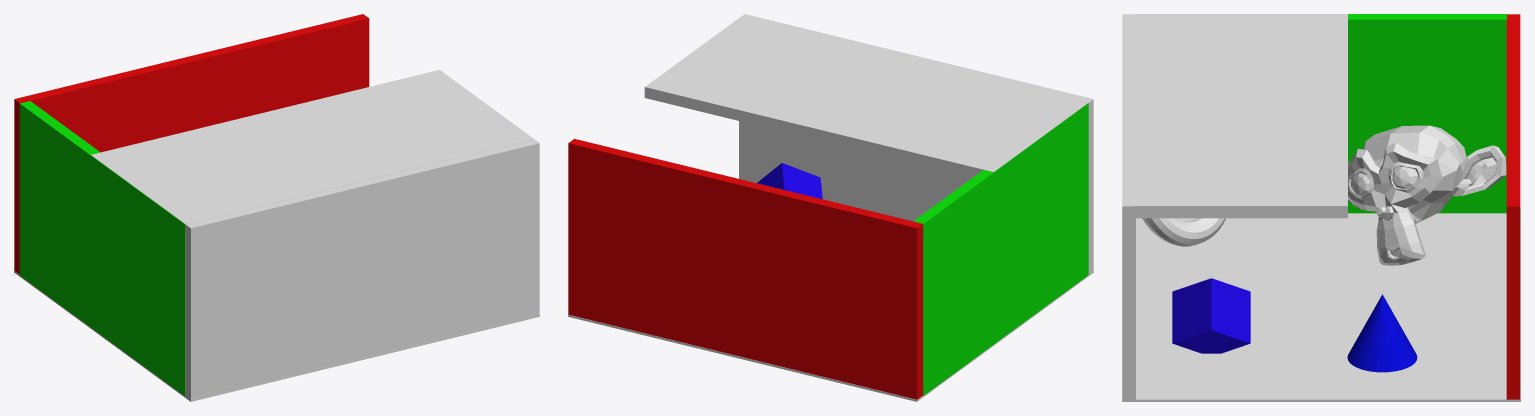
3 renders of one model, left to right at view 1: azimuth 30°, elevation 25°; view 2: azimuth 150°, elevation 25°; view 3: azimuth 270°, elevation 25°, orthographic. The views are drawn at different scales.
Visible parts, largest first — view 1: Cube.001, Cube.004, Cube.003, Cube.002, Cube; view 2: Cube.002, Cube.004, Cube.003, Cube.001, Cube, Cube.005; view 3: Cube, Cube.004, Cube.003, Suzanne, Cube.002, Cube.005, Cube.001, Cone, Torus.
Part boxes in pixels (bbox=[...]): Cube.001: bbox=[185, 139, 539, 399]; Cube.004: bbox=[91, 70, 534, 224]; Cube.003: bbox=[19, 101, 185, 395]; Cube.002: bbox=[14, 14, 369, 274]; Cube: bbox=[14, 270, 539, 401]; Cube.002: bbox=[568, 139, 922, 399]; Cube.004: bbox=[644, 17, 1088, 177]; Cube.003: bbox=[913, 103, 1088, 395]; Cube.001: bbox=[739, 14, 1093, 273]; Cube: bbox=[568, 270, 1093, 401]; Cube.005: bbox=[757, 163, 822, 199]; Cube: bbox=[1122, 207, 1520, 401]; Cube.004: bbox=[1134, 14, 1347, 218]; Cube.003: bbox=[1348, 14, 1507, 213]; Suzanne: bbox=[1348, 125, 1506, 265]; Cube.002: bbox=[1506, 14, 1520, 399]; Cube.005: bbox=[1172, 278, 1250, 353]; Cube.001: bbox=[1122, 14, 1135, 399]; Cone: bbox=[1347, 294, 1417, 372]; Torus: bbox=[1142, 218, 1225, 246].
Size of the model in its own units: 66.62 by 32.32 by 58.41.
